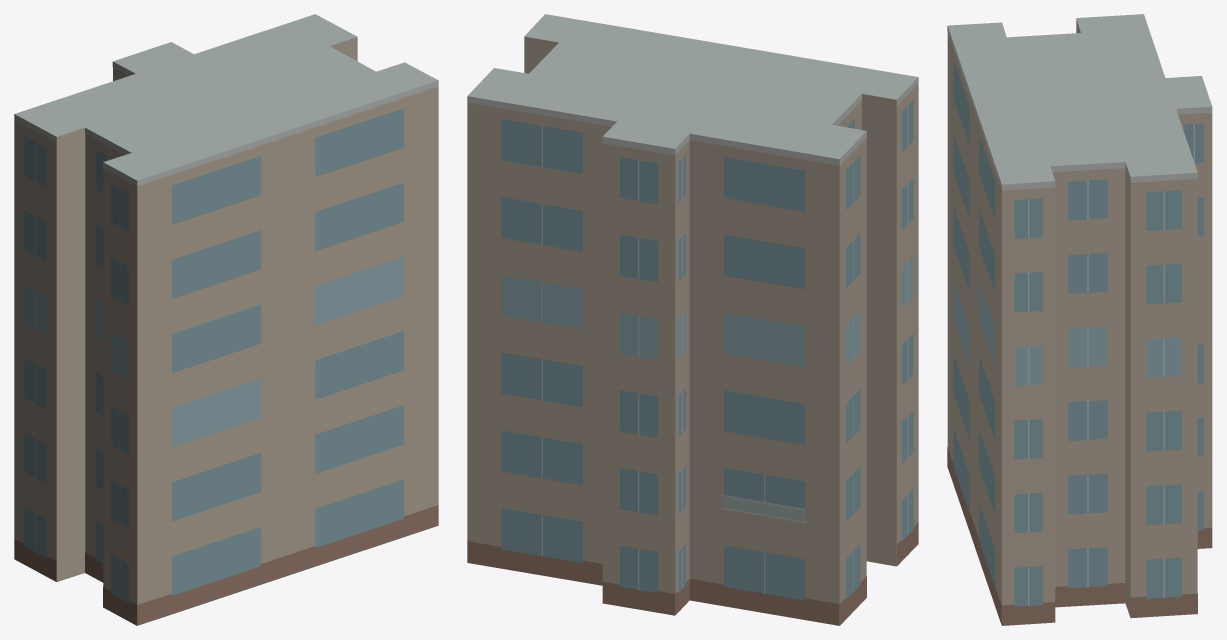
Rendered from survey-upis-33013191.glb.
3 views of the same model, side by side, from view 1: azimuth 30°, elevation 25°; view 2: azimuth 150°, elevation 25°; view 3: azimuth 270°, elevation 25° (orthographic). The views are drawn at different scales.
Parts seen in each view (by area): view 1: survey-upis-33013191.tmp; view 2: survey-upis-33013191.tmp; view 3: survey-upis-33013191.tmp.
Part boxes in pixels (<box>): survey-upis-33013191.tmp: <box>14,14,438,625</box>; survey-upis-33013191.tmp: <box>467,14,918,625</box>; survey-upis-33013191.tmp: <box>947,14,1212,625</box>.
Bounding box in the file's own units: 14.85 × 17.9 × 9.75.
